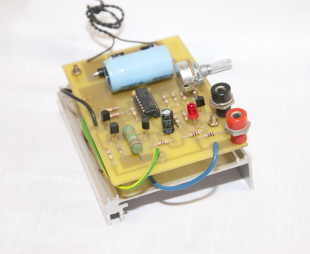capacitor: (103, 45, 175, 93), (161, 109, 175, 134)
resistor: (123, 125, 143, 155), (158, 139, 170, 146), (173, 115, 180, 127), (116, 144, 123, 155), (109, 112, 121, 118), (106, 106, 118, 112), (182, 111, 189, 121), (130, 106, 137, 116), (189, 131, 200, 137), (180, 92, 188, 100), (171, 92, 178, 101), (205, 132, 215, 138), (162, 95, 169, 103), (107, 151, 112, 160)
